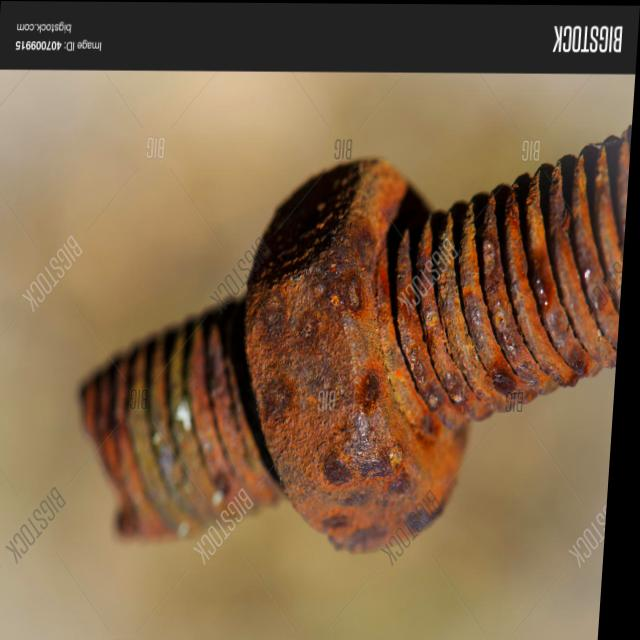Rusty bolt: (235, 156, 480, 547)
